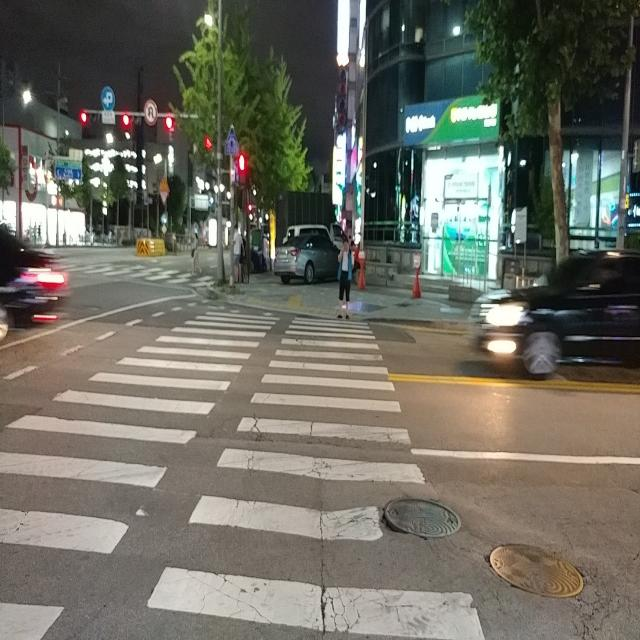빨간불: (237, 154, 246, 189)
횡단보도: (0, 303, 488, 640)
